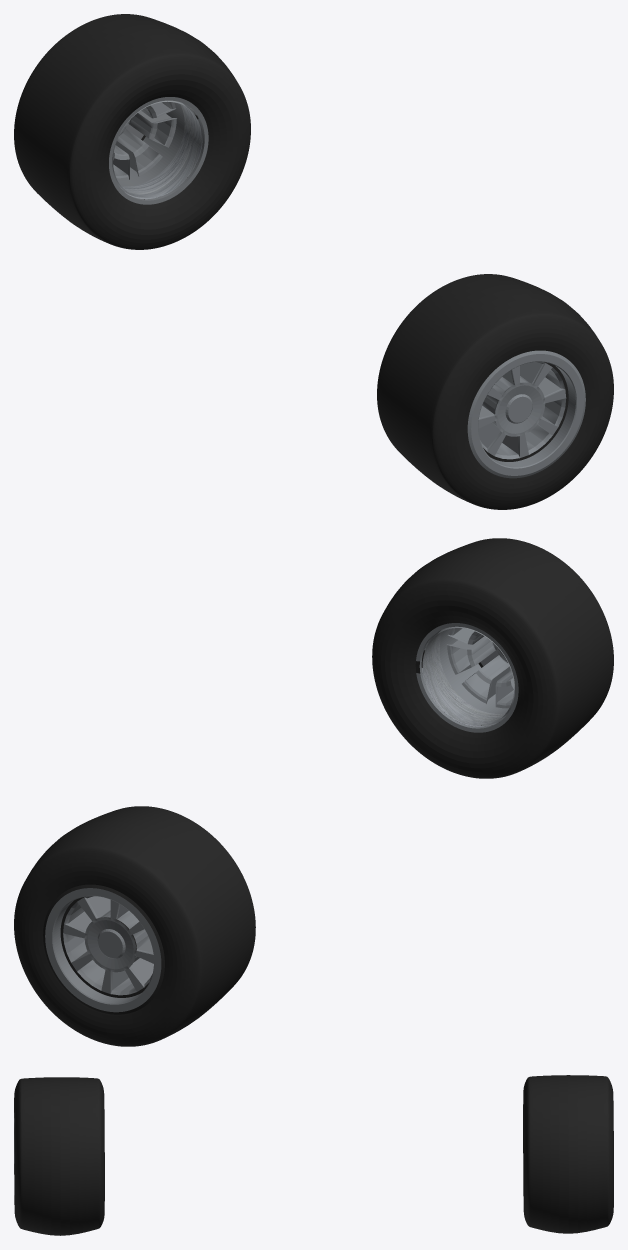
Rendered from car_rear_wheels.obj.
3 views of the same model, one above another, from view 1: azimuth 30°, elevation 25°; view 2: azimuth 150°, elevation 25°; view 3: azimuth 270°, elevation 25° (orthographic). The views are drawn at different scales.
Parts seen in each view (by area): view 1: front_wheels_Rim_inner.001_Circle; view 2: front_wheels_Rim_inner.001_Circle; view 3: front_wheels_Rim_inner.001_Circle.
Boxes of the visible parts, <box> form: front_wheels_Rim_inner.001_Circle: <box>14,14,613,509</box>; front_wheels_Rim_inner.001_Circle: <box>14,538,613,1046</box>; front_wheels_Rim_inner.001_Circle: <box>14,1075,613,1235</box>.
Size of the model in its own units: 0.4366 by 0.4236 by 1.6.
Materials: 1 (1 with a texture image).
